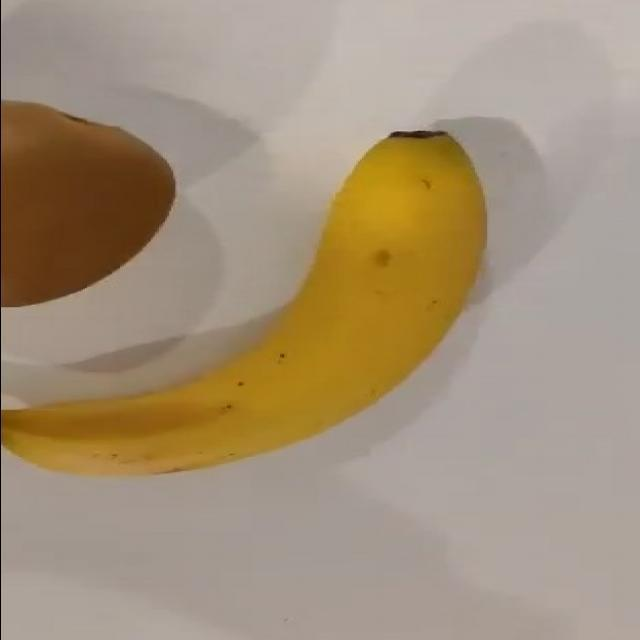Banana: (0, 129, 485, 481)
